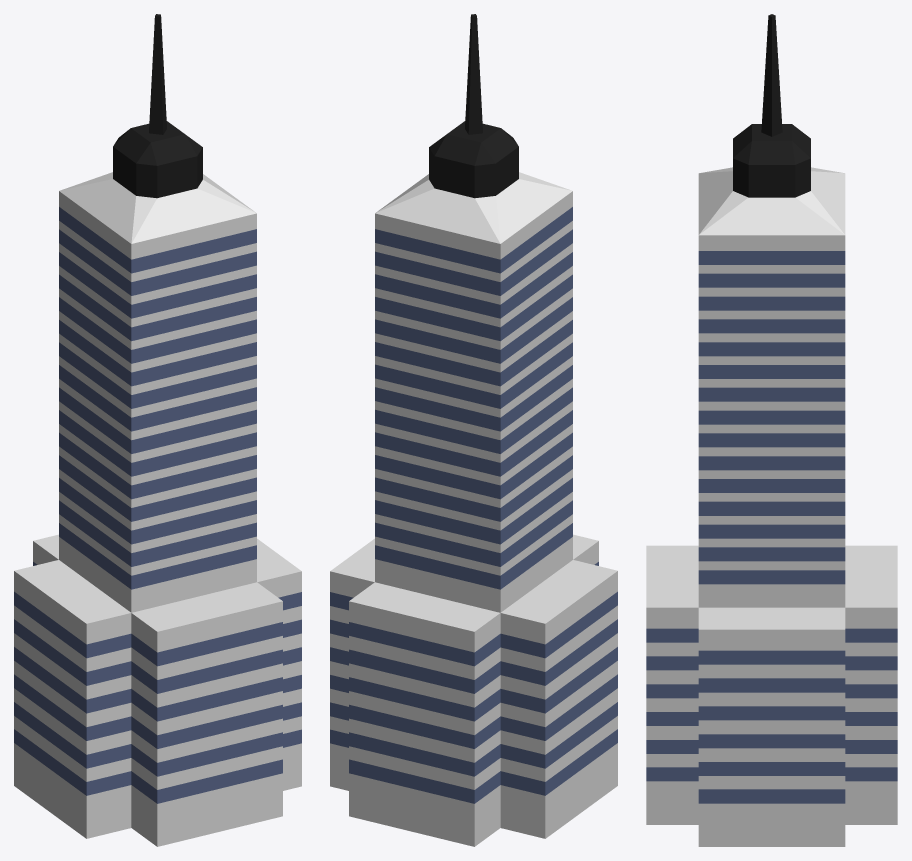
File: Tower1.fbx
The picture shows the model from 3 angles, left to right: view 1: azimuth 30°, elevation 25°; view 2: azimuth 150°, elevation 25°; view 3: azimuth 270°, elevation 25°; orthographic projection.
Parts seen in each view (by area): view 1: Cube.320; view 2: Cube.320; view 3: Cube.320.
Boxes of the visible parts, bbox=[...] form: Cube.320: bbox=[14, 14, 301, 846]; Cube.320: bbox=[330, 14, 617, 846]; Cube.320: bbox=[646, 14, 897, 846].
Size of the model in its own units: 7311 by 25002 by 7311.
